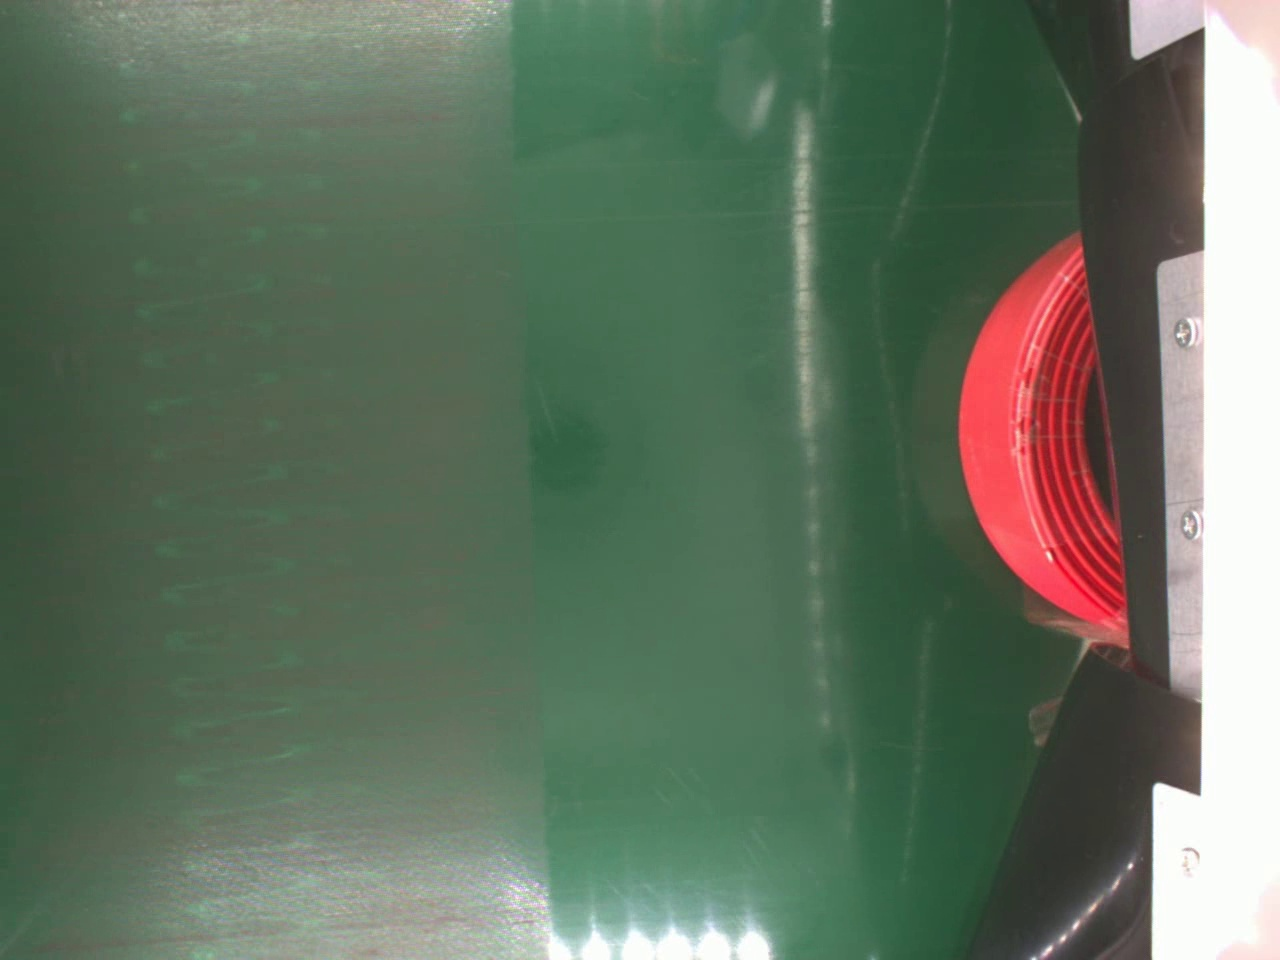red: (952, 232, 1128, 635)
